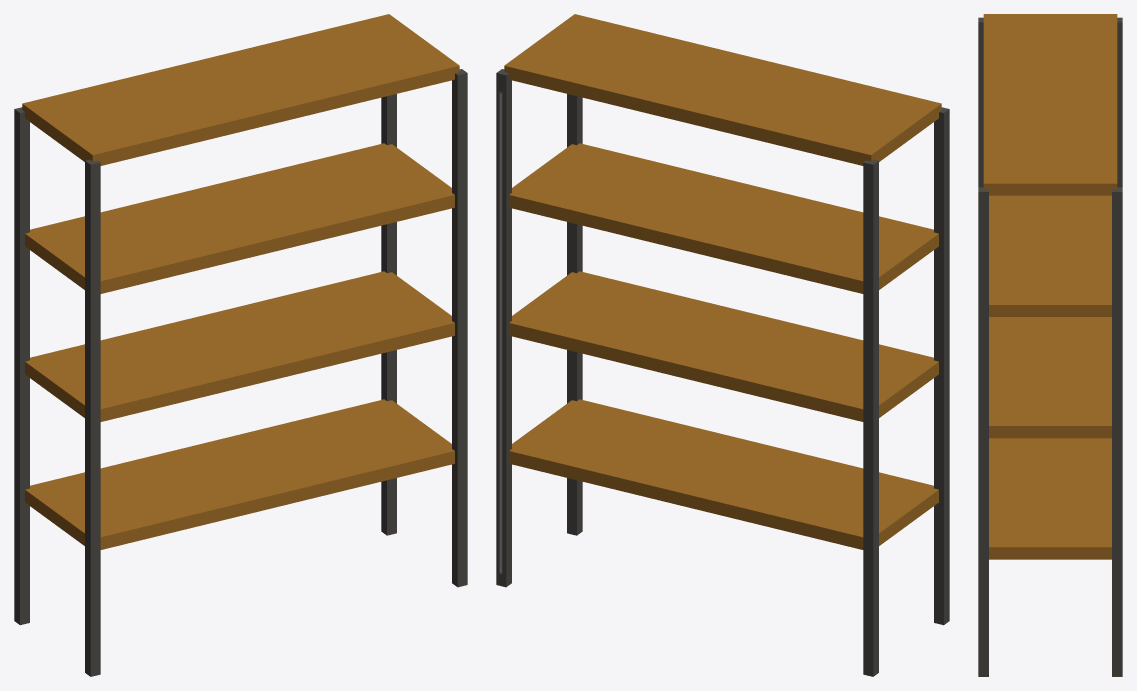
The model's file is Decor_Shelf.fbx.
The picture shows the model from 3 angles, left to right: view 1: azimuth 30°, elevation 25°; view 2: azimuth 150°, elevation 25°; view 3: azimuth 270°, elevation 25°; orthographic projection. The views are drawn at different scales.
Visible parts, largest first — view 1: arehouse Parts.004; view 2: arehouse Parts.004; view 3: arehouse Parts.004.
Part boxes in pixels (<box>): arehouse Parts.004: <box>14,14,467,676</box>; arehouse Parts.004: <box>496,14,949,676</box>; arehouse Parts.004: <box>978,14,1122,676</box>.
Bounding box in the file's own units: 246 × 324 × 86.4.
1 material, 1 textured.
